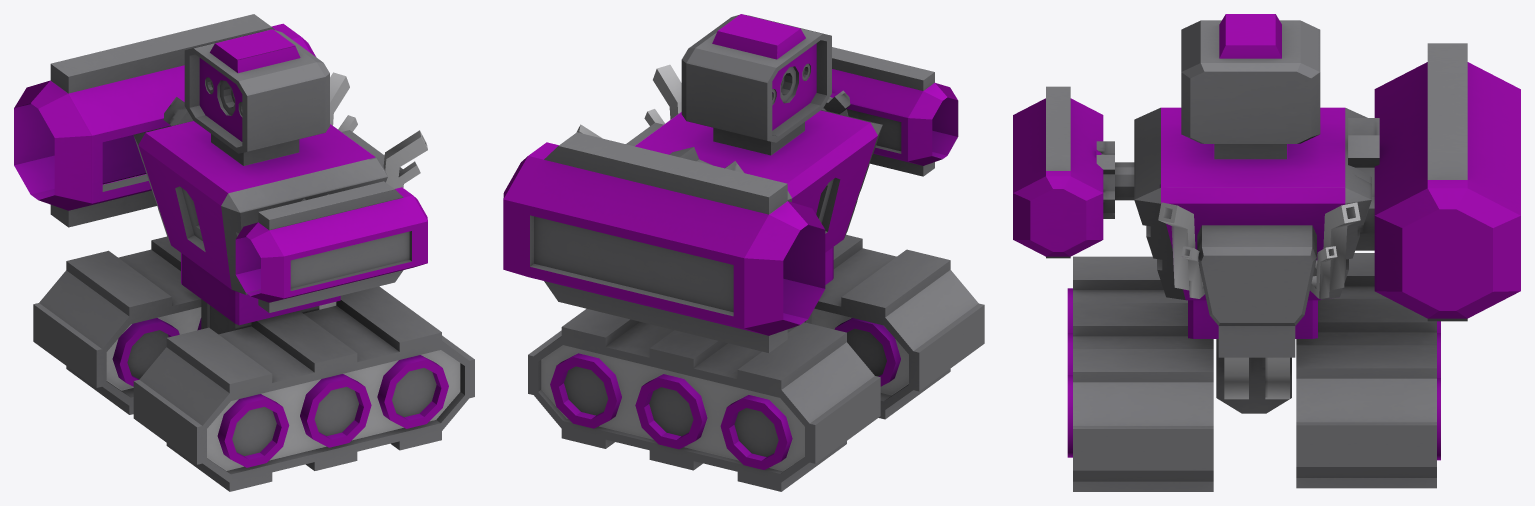
File: Enemy2_Attack2.obj
The picture shows the model from 3 angles, left to right: view 1: azimuth 30°, elevation 25°; view 2: azimuth 150°, elevation 25°; view 3: azimuth 270°, elevation 25°; orthographic projection. The views are drawn at different scales.
Parts seen in each view (by area): view 1: Object006, Object007, Object011, Object010, Object009; view 2: Object006, Object011, Object007, Object010; view 3: Object006, Object007, Object011, Object010, Object009, Object008.
Boxes of the visible parts, x1,y1,x2,y2 form: Object006: (33,181,474,491); Object007: (133,29,387,334); Object011: (14,14,315,227); Object010: (319,72,427,309); Object009: (163,97,193,125); Object006: (528,47,984,491); Object011: (503,132,825,352); Object007: (635,14,882,328); Object010: (576,64,681,146); Object006: (1013,86,1440,491); Object007: (1134,14,1371,413); Object011: (1374,43,1520,321); Object010: (1158,202,1360,399); Object009: (1348,118,1379,250); Object008: (1096,141,1134,218).
Bounding box in the file's own units: 87.04 × 109 × 124.
